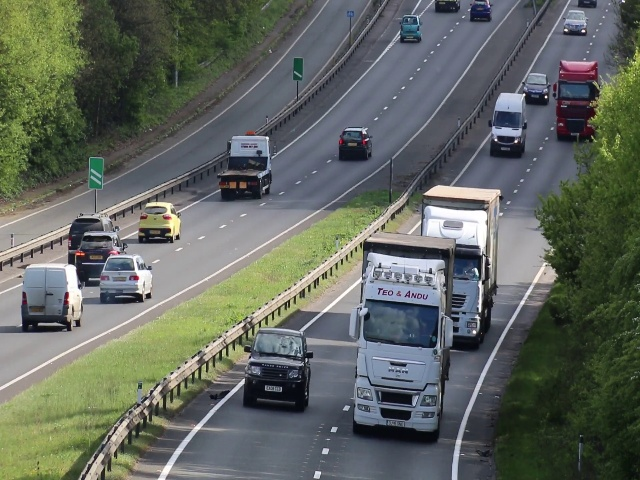car: (356, 264, 439, 445), (241, 330, 307, 412), (455, 224, 492, 348), (19, 262, 83, 331), (219, 134, 276, 200), (100, 254, 152, 300), (492, 94, 527, 157), (557, 71, 588, 141), (139, 201, 182, 242), (338, 126, 374, 161), (77, 238, 100, 282), (526, 72, 550, 102), (564, 9, 587, 37)
